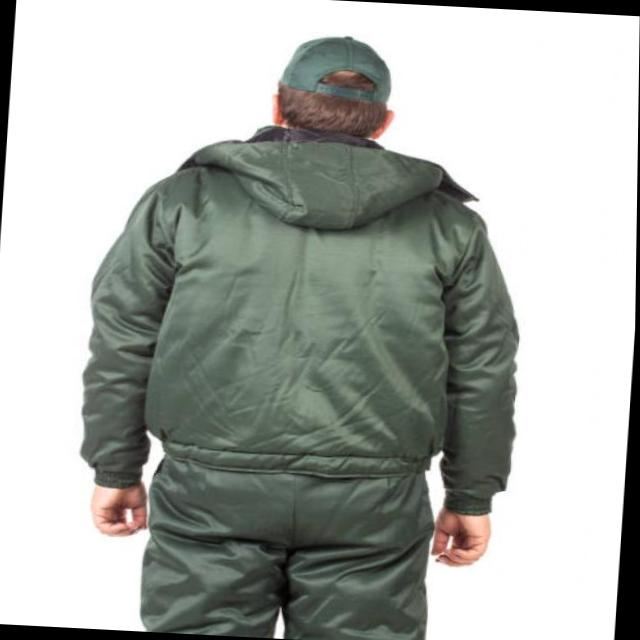no helmet: (255, 17, 425, 162)
